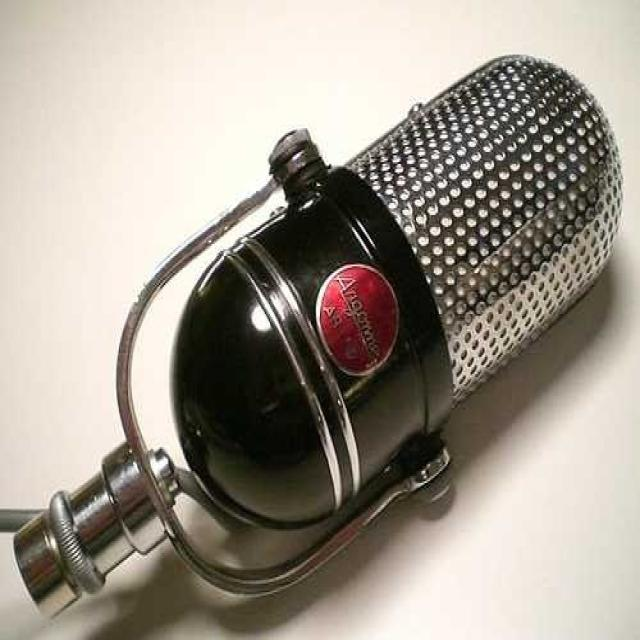microphone: (16, 57, 616, 603)
